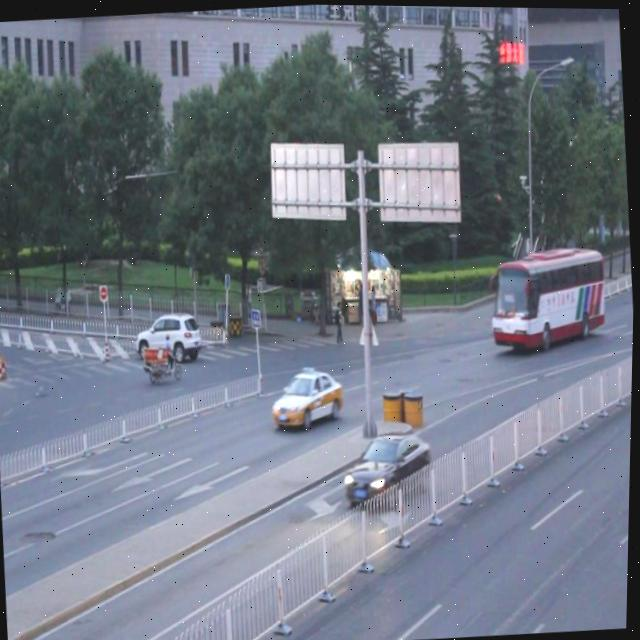car: (342, 427, 436, 503), (271, 365, 345, 428), (136, 314, 205, 370)
van: (489, 242, 607, 343)
